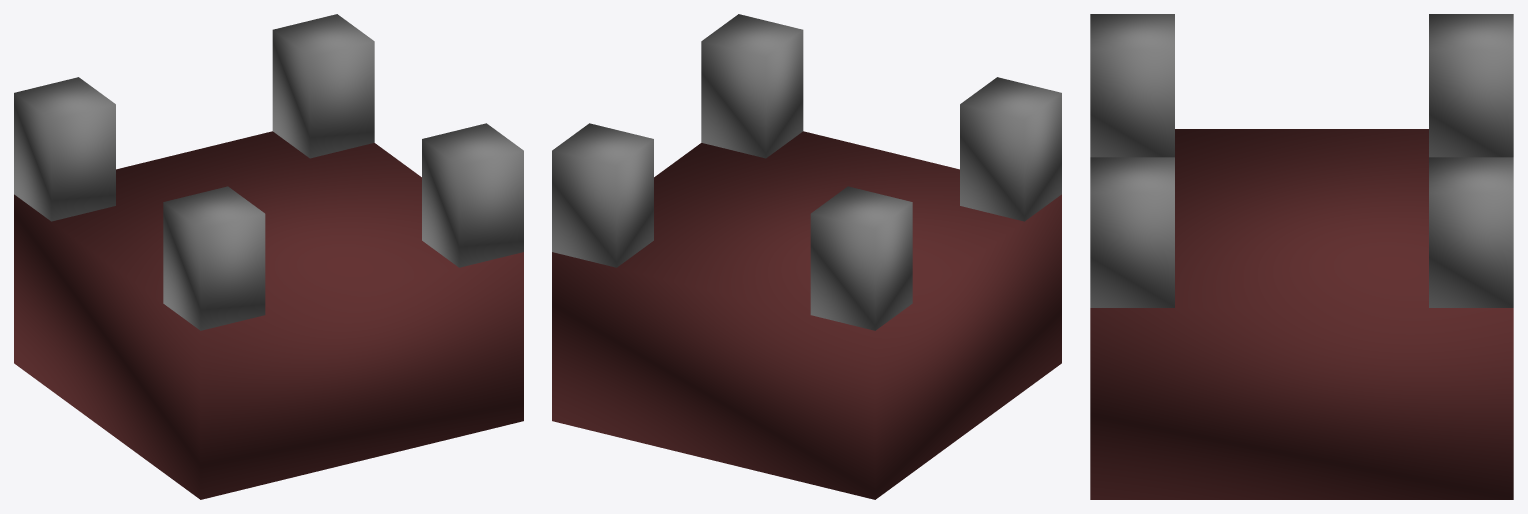
The model's file is Castle.fbx.
3 renders of one model, left to right at view 1: azimuth 30°, elevation 25°; view 2: azimuth 150°, elevation 25°; view 3: azimuth 270°, elevation 25°, orthographic. The views are drawn at different scales.
Parts seen in each view (by area): view 1: pCube1, turretBase_ncl1_1, turretBase_ncl1_3, turretBase, turretBase_ncl1_2; view 2: pCube1, turretBase_ncl1_2, turretBase, turretBase_ncl1_3, turretBase_ncl1_1; view 3: pCube1, turretBase_ncl1_1, turretBase_ncl1_2, turretBase, turretBase_ncl1_3.
Part boxes in pixels (x1,y1,x2,y2): pCube1: (14,131,523,499); turretBase_ncl1_1: (272,14,374,158); turretBase_ncl1_3: (163,186,265,330); turretBase: (14,77,115,221); turretBase_ncl1_2: (422,123,523,267); pCube1: (552,131,1061,499); turretBase_ncl1_2: (701,14,803,158); turretBase: (810,186,912,330); turretBase_ncl1_3: (960,77,1061,221); turretBase_ncl1_1: (552,123,653,267); pCube1: (1090,129,1513,499); turretBase_ncl1_1: (1429,157,1513,307); turretBase_ncl1_2: (1090,157,1174,307); turretBase: (1429,14,1513,157); turretBase_ncl1_3: (1090,14,1174,157).
Size of the model in its own units: 10 by 8 by 10.
